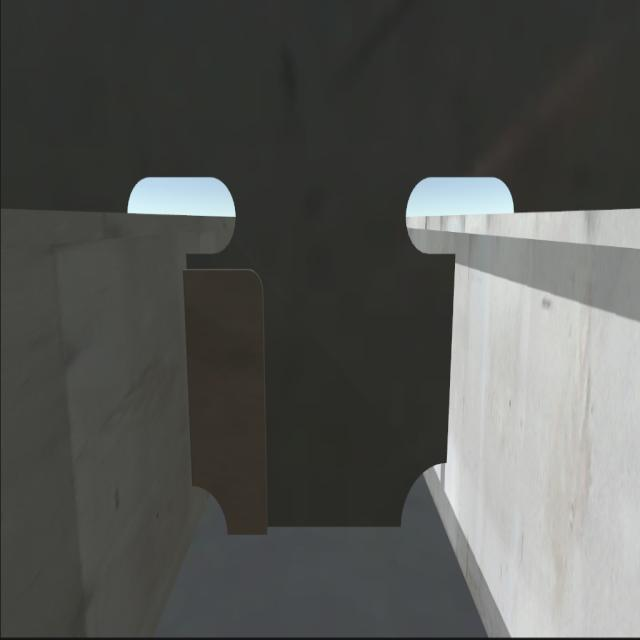fillet_hole: (403, 461, 445, 532), (192, 480, 226, 536)
fillet_yong_jeop_jang: (220, 522, 412, 537)
longi_yong_jeop_jang: (436, 243, 459, 467), (180, 252, 200, 496)
plate_CP05: (180, 270, 268, 532)
